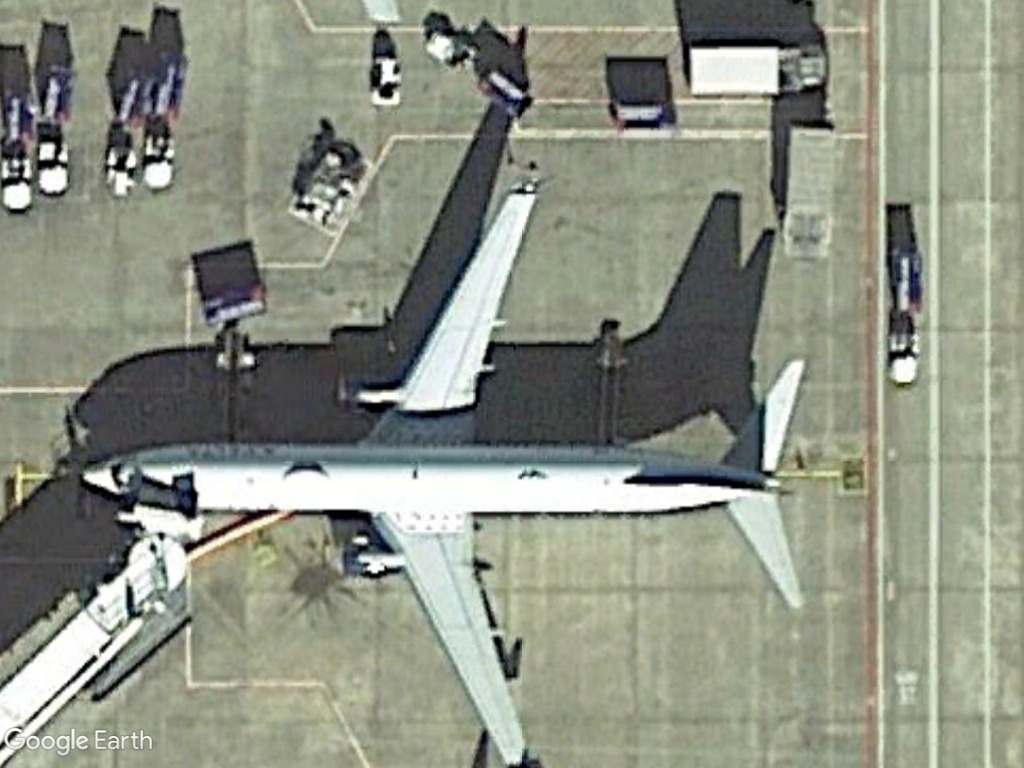airliner: (72, 158, 825, 768)
truck: (683, 36, 825, 108)
